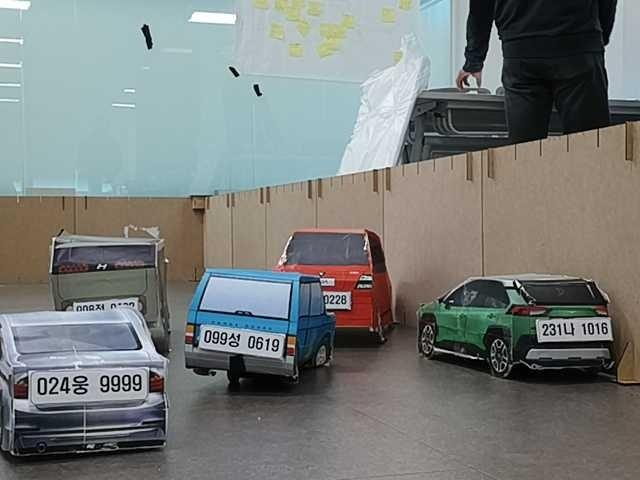car: (1, 315, 169, 453), (413, 273, 615, 381), (182, 270, 333, 383), (47, 229, 170, 351), (269, 227, 393, 344)
id: (31, 364, 147, 403), (200, 323, 283, 365), (536, 320, 609, 340), (318, 292, 350, 309)
